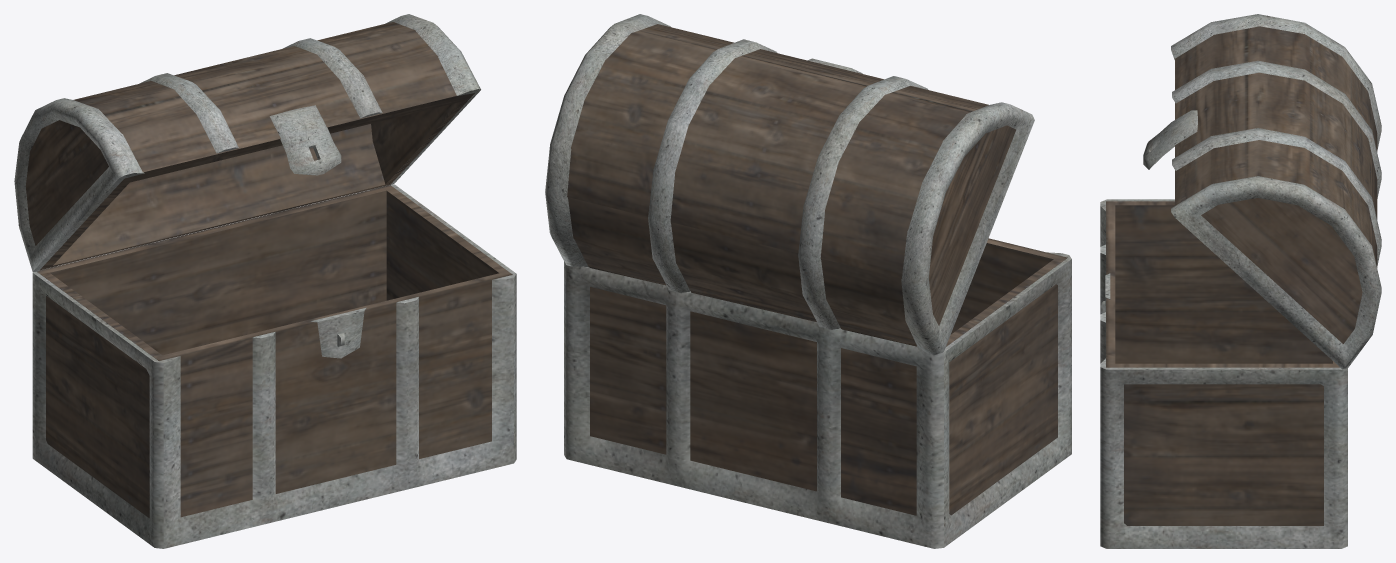
The model's file is banded_chest.glb.
3 renders of one model, left to right at view 1: azimuth 30°, elevation 25°; view 2: azimuth 150°, elevation 25°; view 3: azimuth 270°, elevation 25°, orthographic. The views are drawn at different scales.
Parts seen in each view (by area): view 1: Chest_Wood Planks_0; view 2: Chest_Wood Planks_0; view 3: Chest_Wood Planks_0.
Boxes of the visible parts, left/top/right/bottom form: Chest_Wood Planks_0: left=14, top=14, right=516, bottom=548; Chest_Wood Planks_0: left=545, top=14, right=1071, bottom=548; Chest_Wood Planks_0: left=1100, top=14, right=1381, bottom=548.
Bounding box in the file's own units: 0.2909 × 0.2922 × 0.2033.
Materials: 2 (2 with a texture image).
